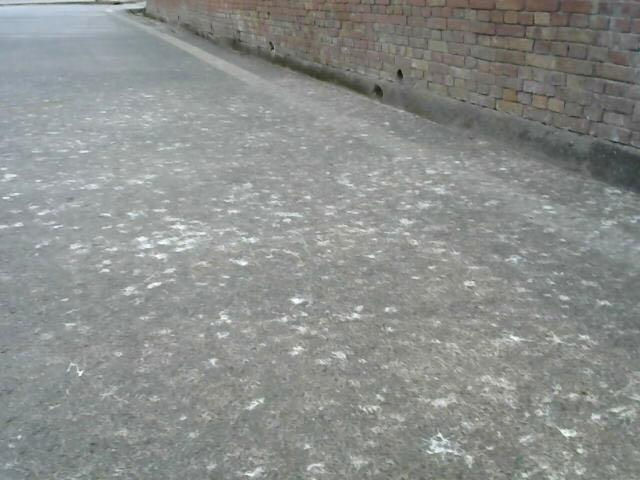Road: (4, 0, 588, 480)
